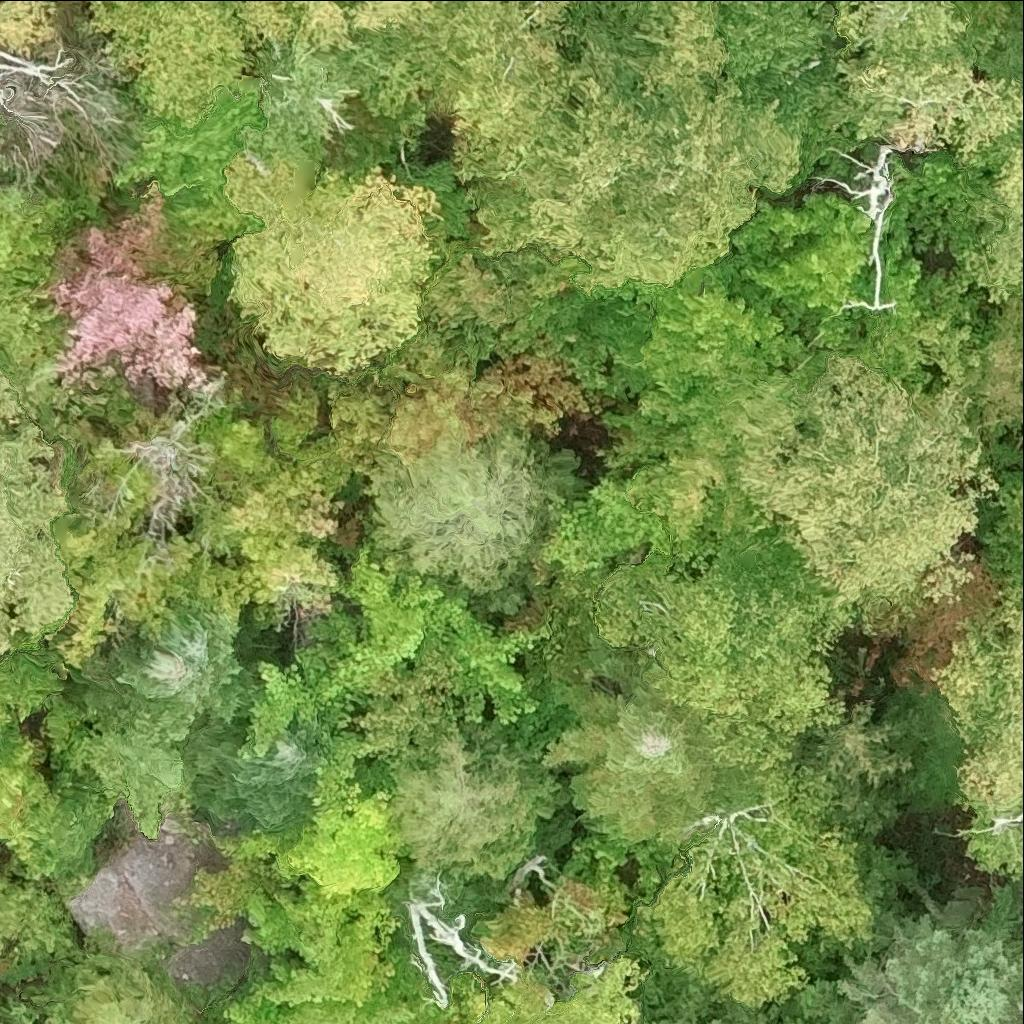crown: (520, 0, 801, 290), (599, 489, 861, 769), (736, 355, 998, 626), (341, 0, 581, 253), (637, 763, 874, 1008), (228, 158, 443, 379), (326, 323, 590, 476), (39, 177, 210, 398), (51, 442, 197, 669), (545, 658, 718, 840), (355, 607, 550, 756), (631, 266, 805, 423), (362, 434, 534, 591), (296, 544, 462, 700), (712, 192, 875, 348), (791, 914, 1023, 1023), (598, 408, 745, 579), (188, 463, 339, 629), (270, 731, 413, 899), (239, 43, 419, 175), (86, 0, 262, 131), (419, 243, 588, 372), (240, 878, 402, 1007), (931, 585, 1023, 808), (831, 51, 1023, 157), (0, 372, 73, 648), (389, 731, 524, 870), (537, 474, 673, 605), (236, 0, 450, 80), (108, 87, 267, 194), (140, 185, 262, 310), (116, 614, 253, 725), (473, 869, 630, 962), (0, 184, 97, 296), (953, 289, 1023, 442), (223, 734, 324, 828), (245, 660, 344, 755), (965, 141, 1023, 298), (829, 0, 968, 62), (0, 735, 57, 877), (970, 457, 1023, 590), (74, 954, 175, 1023), (189, 857, 276, 932), (226, 991, 414, 1023), (0, 881, 72, 961), (969, 790, 1023, 879), (397, 972, 486, 1023), (0, 0, 58, 57), (509, 985, 552, 1023), (654, 1000, 696, 1023), (1007, 927, 1023, 954), (1016, 323, 1023, 347), (1019, 992, 1023, 1023), (1015, 287, 1023, 302), (712, 1018, 728, 1023), (16, 1017, 28, 1023)
